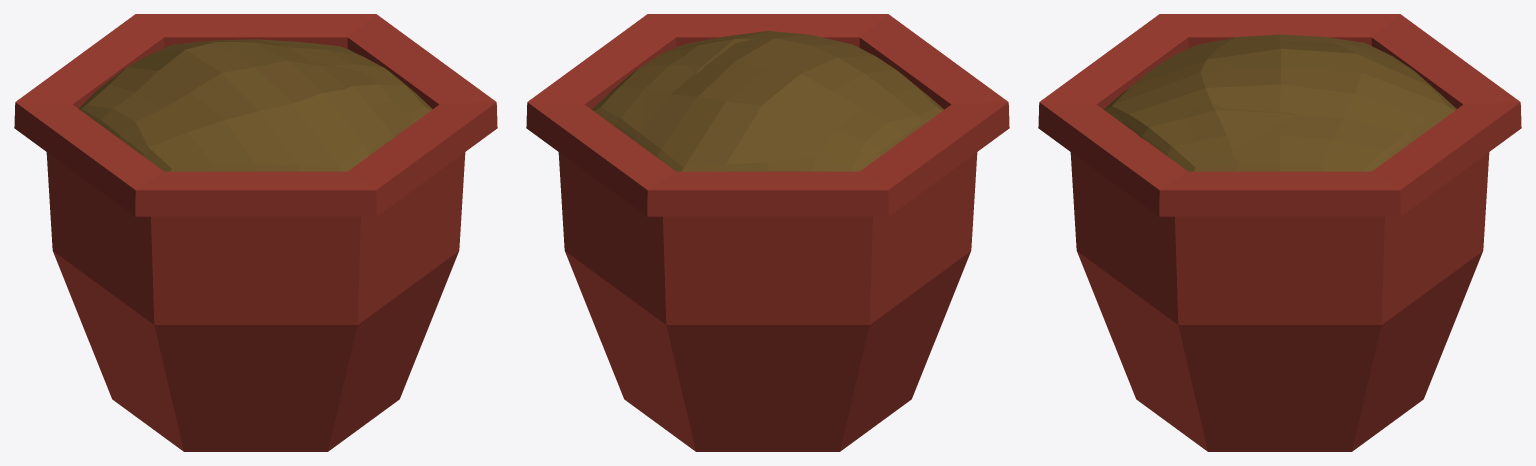
File: Pots n plants.fbx
The picture shows the model from 3 angles, left to right: view 1: azimuth 30°, elevation 25°; view 2: azimuth 150°, elevation 25°; view 3: azimuth 270°, elevation 25°; orthographic projection.
Parts seen in each view (by area): view 1: Pot, soil_plant, soil_dig, soil; view 2: Pot, soil_plant, soil_dig, soil; view 3: Pot, soil_plant, soil_dig, soil.
Boxes of the visible parts, x1=… form: Pot: x1=14, y1=14, x2=497, y2=451; soil_plant: x1=87, y1=39, x2=405, y2=171; soil_dig: x1=78, y1=39, x2=432, y2=171; soil: x1=105, y1=61, x2=411, y2=118; Pot: x1=526, y1=14, x2=1009, y2=451; soil_plant: x1=640, y1=31, x2=918, y2=167; soil_dig: x1=591, y1=36, x2=944, y2=171; soil: x1=679, y1=36, x2=878, y2=147; Pot: x1=1038, y1=14, x2=1521, y2=451; soil_plant: x1=1112, y1=34, x2=1447, y2=146; soil_dig: x1=1103, y1=37, x2=1456, y2=171; soil: x1=1182, y1=42, x2=1336, y2=159.
Bounding box in the file's own units: 180 × 159 × 208.
